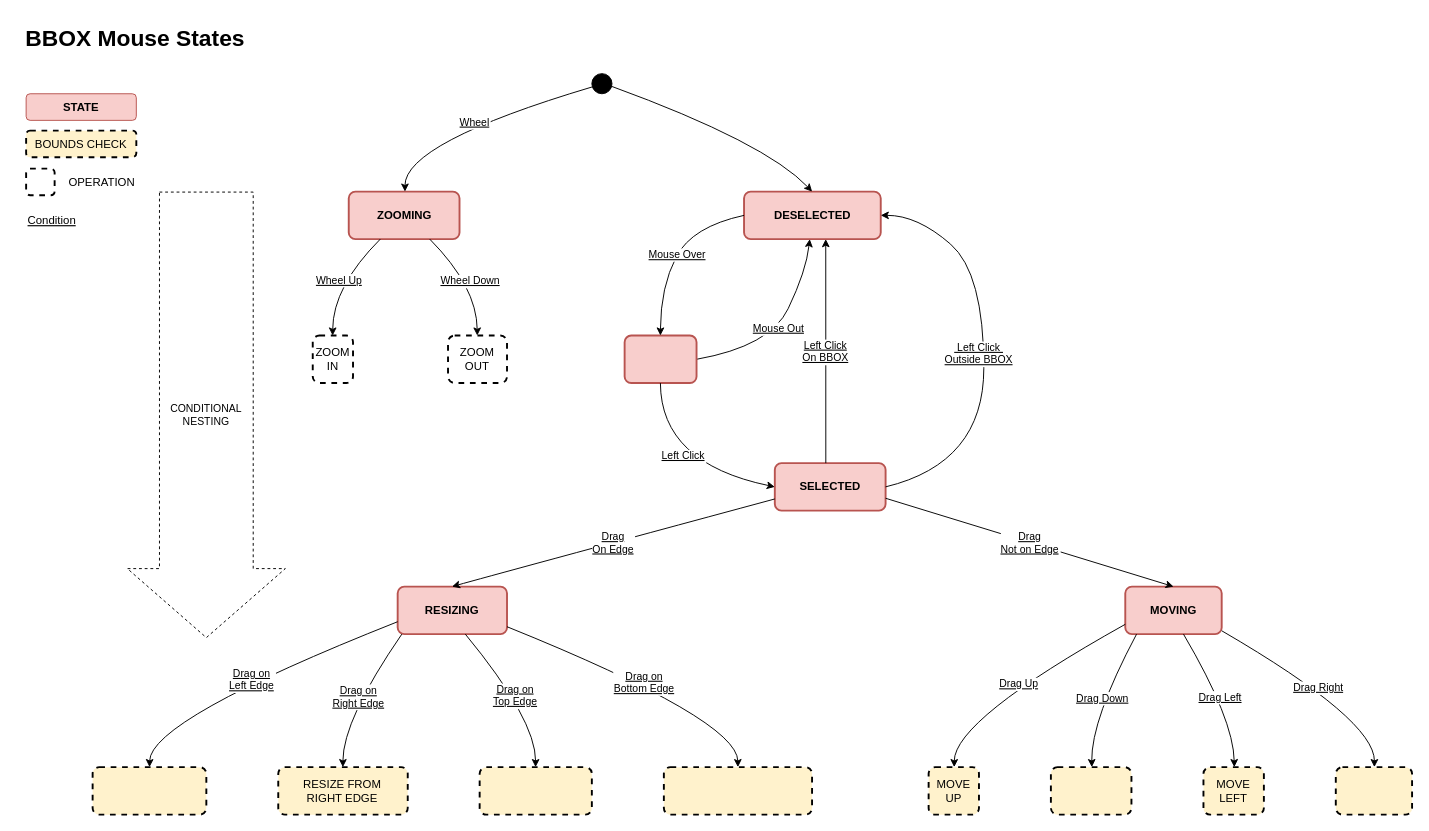
This 1429x831 diagram has some shape labels left out. The centre of each missing label's shape, as x and y in pixels:
"MOVE DOWN" belongs at [1090,790].
"MOVE RIGHT" belongs at [1373,790].
"OVER" belongs at [660,359].
"RESIZE FROM BOTTOM EDGE" belongs at [737,790].
"RESIZE FROM LEFT EDGE" belongs at [149,790].
"RESIZE FROM TOP EDGE" belongs at [535,790].
